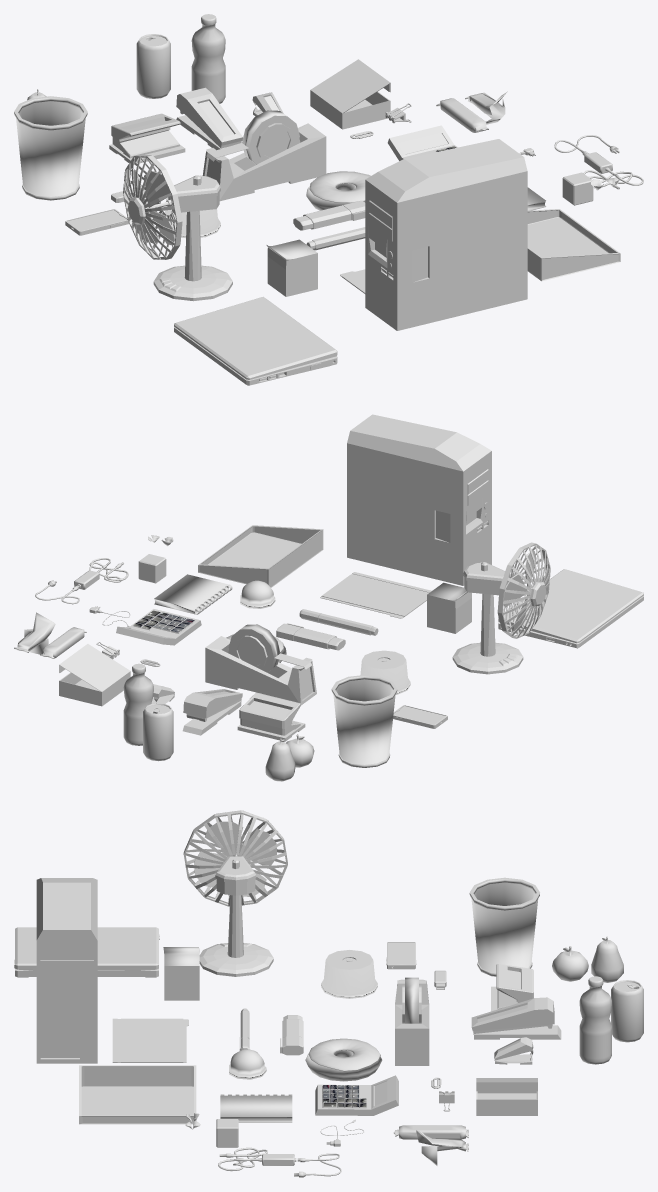
File: Office Supplies.fbx
The picture shows the model from 3 angles, top to bottom: view 1: azimuth 30°, elevation 25°; view 2: azimuth 150°, elevation 25°; view 3: azimuth 270°, elevation 25°; orthographic projection. The views are drawn at different scales.
Visible parts, largest first — view 1: ComputerCase, ClosedLaptop, Fan, TapeDispencer, BlackTrash, FileHolder, DonutBox, HolePuncher, Stapler, StickyStack, WaterBottle, SodaCan (+11 smaller); view 2: ComputerCase, Fan, TapeDispencer, ClosedLaptop, FileHolder, BlackTrash, DonutBox, File, HolePuncher, StickyStack, NoteBook, Stapler (+15 smaller); view 3: ComputerCase, Fan, FileHolder, BlackTrash, ClosedLaptop, File, TapeDispencer, Stapler, Calculator, Donut, WaterBottle, DonutBox (+16 smaller).
Boxes of the visible parts, x1=… form: ComputerCase: x1=365, y1=139, x2=527, y2=330; ClosedLaptop: x1=174, y1=297, x2=337, y2=385; Fan: x1=123, y1=155, x2=232, y2=301; TapeDispencer: x1=202, y1=110, x2=326, y2=201; BlackTrash: x1=14, y1=96, x2=87, y2=200; FileHolder: x1=527, y1=209, x2=620, y2=281; DonutBox: x1=310, y1=59, x2=390, y2=129; HolePuncher: x1=109, y1=113, x2=185, y2=163; Stapler: x1=176, y1=87, x2=242, y2=150; StickyStack: x1=266, y1=239, x2=317, y2=296; WaterBottle: x1=191, y1=14, x2=225, y2=103; SodaCan: x1=136, y1=34, x2=170, y2=98; ComputerCase: x1=347, y1=414, x2=491, y2=585; Fan: x1=452, y1=542, x2=550, y2=674; TapeDispencer: x1=205, y1=624, x2=316, y2=705; ClosedLaptop: x1=498, y1=569, x2=643, y2=648; FileHolder: x1=198, y1=525, x2=323, y2=587; BlackTrash: x1=331, y1=675, x2=397, y2=767; DonutBox: x1=59, y1=644, x2=130, y2=706; File: x1=320, y1=572, x2=431, y2=618; HolePuncher: x1=237, y1=692, x2=305, y2=741; StickyStack: x1=427, y1=582, x2=471, y2=633; NoteBook: x1=154, y1=574, x2=232, y2=614; Stapler: x1=182, y1=689, x2=242, y2=735; ComputerCase: x1=36, y1=878, x2=97, y2=1063; Fan: x1=183, y1=810, x2=287, y2=976; FileHolder: x1=79, y1=1065, x2=196, y2=1124; BlackTrash: x1=469, y1=877, x2=539, y2=976; ClosedLaptop: x1=14, y1=927, x2=159, y2=977; File: x1=112, y1=1018, x2=188, y2=1062; TapeDispencer: x1=395, y1=977, x2=429, y2=1065; Stapler: x1=471, y1=997, x2=561, y2=1039; Calculator: x1=315, y1=1075, x2=398, y2=1115; Donut: x1=305, y1=1038, x2=382, y2=1081; WaterBottle: x1=579, y1=976, x2=611, y2=1064; DonutBox: x1=476, y1=1078, x2=537, y2=1115.
Size of the model in its own units: 796 by 238 by 874.
